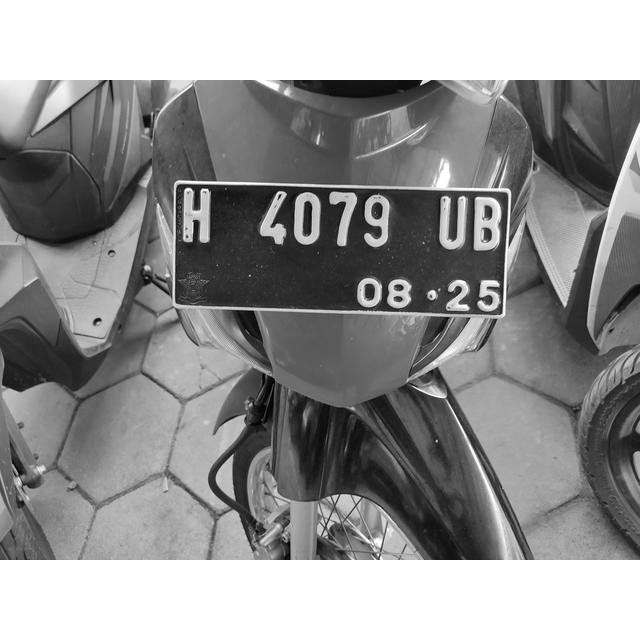license: (180, 186, 503, 315)
